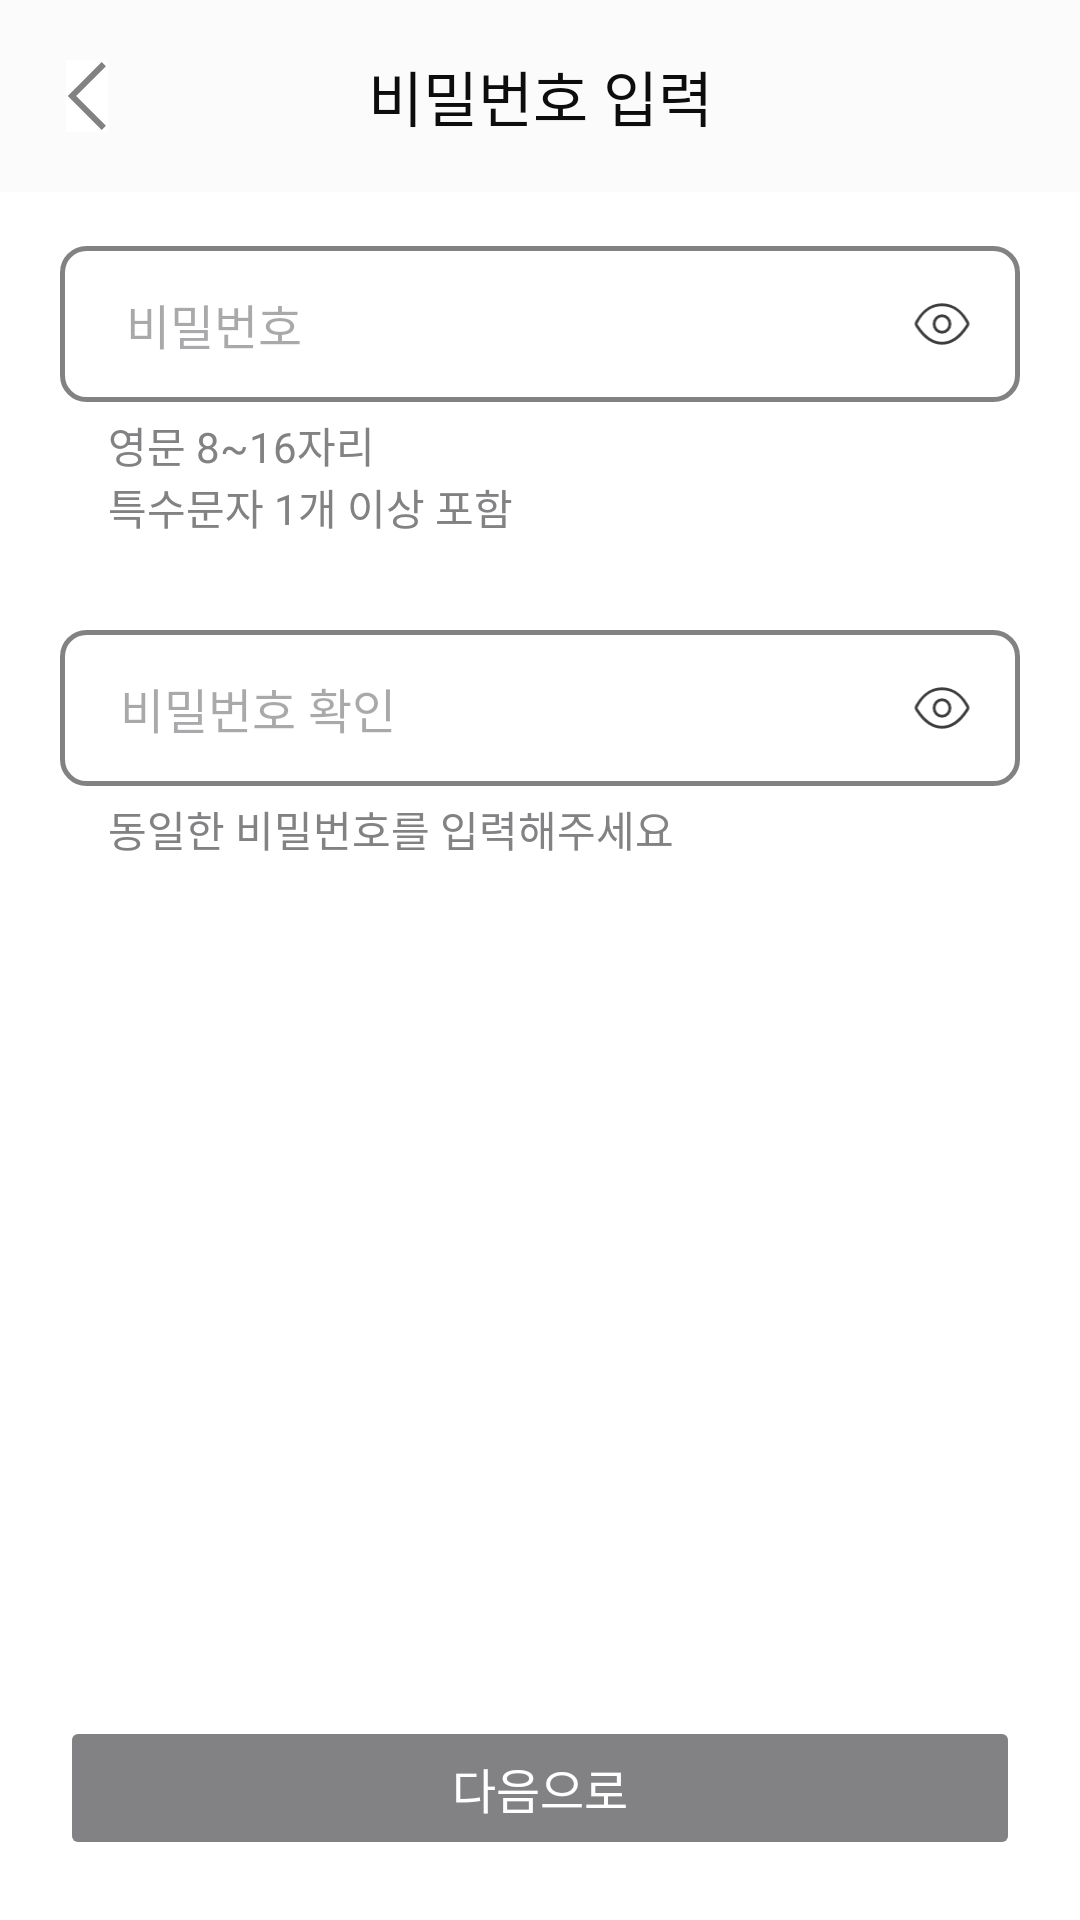

Locate icon controls on the screen. Image size 1080px x 1920px, boxes as (x1, y1, x2, y2).
eye open: (914, 303, 970, 345), (914, 687, 970, 729)
navigation: (68, 62, 106, 130)
